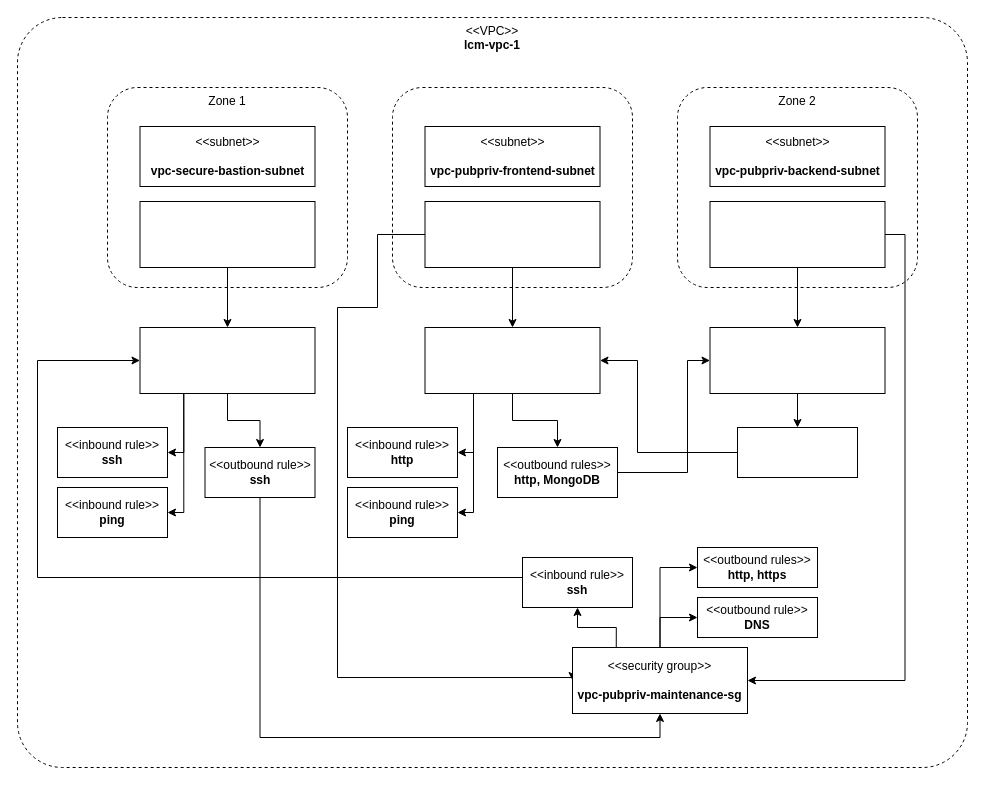
This 985x785 diagram has some shape labels left out. Here are the shapes that lost their labels. From the top down, the box of each, then its label:
(392, 86, 632, 288): Zone 3
(139, 200, 315, 268): <<virtual server instance>> lcm-bastion-vsi
(424, 200, 600, 268): <<virtual server instance>> vpc-pubpriv-frontend-vsi
(709, 200, 885, 268): <<virtual server instance>> vpc-pubpriv-backend-vsi
(139, 326, 315, 394): <<security group>> vpc-secure-bastion-sg
(424, 326, 600, 394): <<security group>> vpc-pubpriv-frontend-sg
(709, 326, 885, 394): <<security group>> vpc-pubpriv-backend-sg
(736, 426, 858, 478): <<inbound rules>> http, MongoDB
